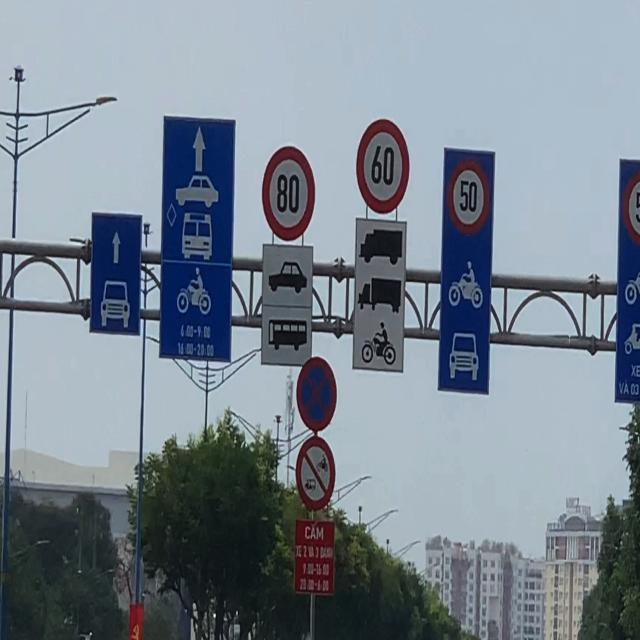Cam con lai: (296, 436, 336, 517)
Cam dung va do: (294, 355, 338, 434)
Toc do toi da: (358, 108, 417, 211), (266, 142, 314, 240), (451, 152, 489, 235), (623, 169, 640, 247)
